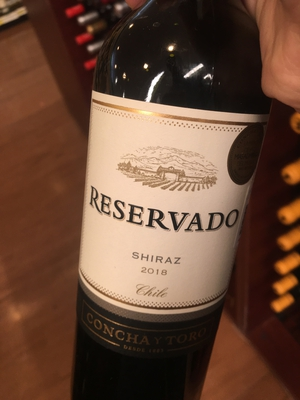reservado shiraz: (74, 23, 267, 400)
